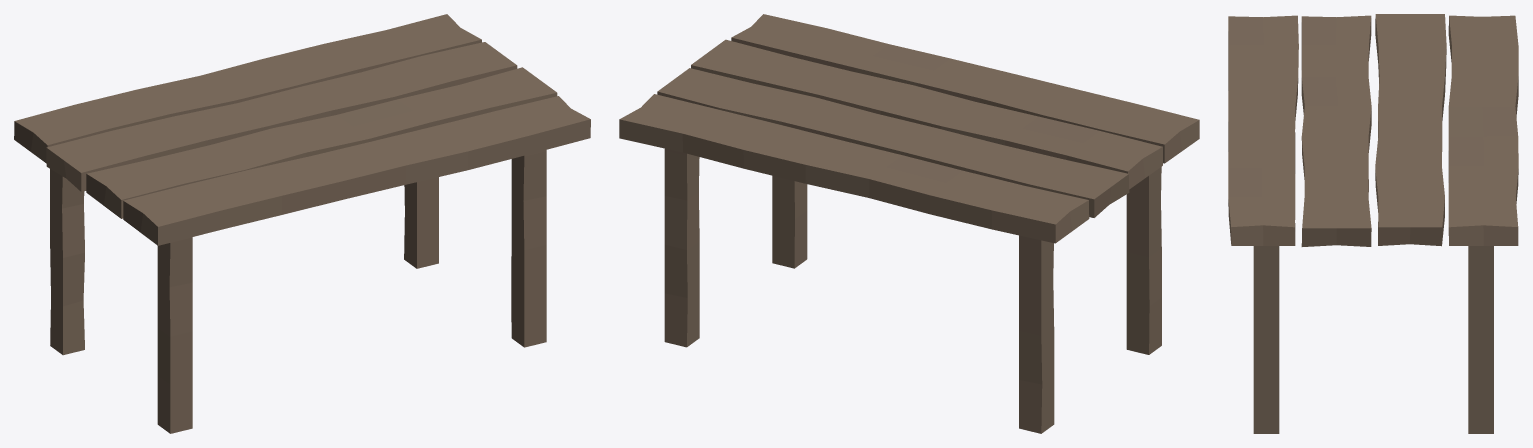
File: HouseTable.fbx
3 renders of one model, left to right at view 1: azimuth 30°, elevation 25°; view 2: azimuth 150°, elevation 25°; view 3: azimuth 270°, elevation 25°, orthographic.
Parts seen in each view (by area): view 1: Cube; view 2: Cube; view 3: Cube.
Part boxes in pixels (bbox=[...]): Cube: bbox=[14, 14, 590, 433]; Cube: bbox=[619, 14, 1199, 433]; Cube: bbox=[1228, 14, 1518, 433].
Bounding box in the file's own units: 243 × 118 × 139.
